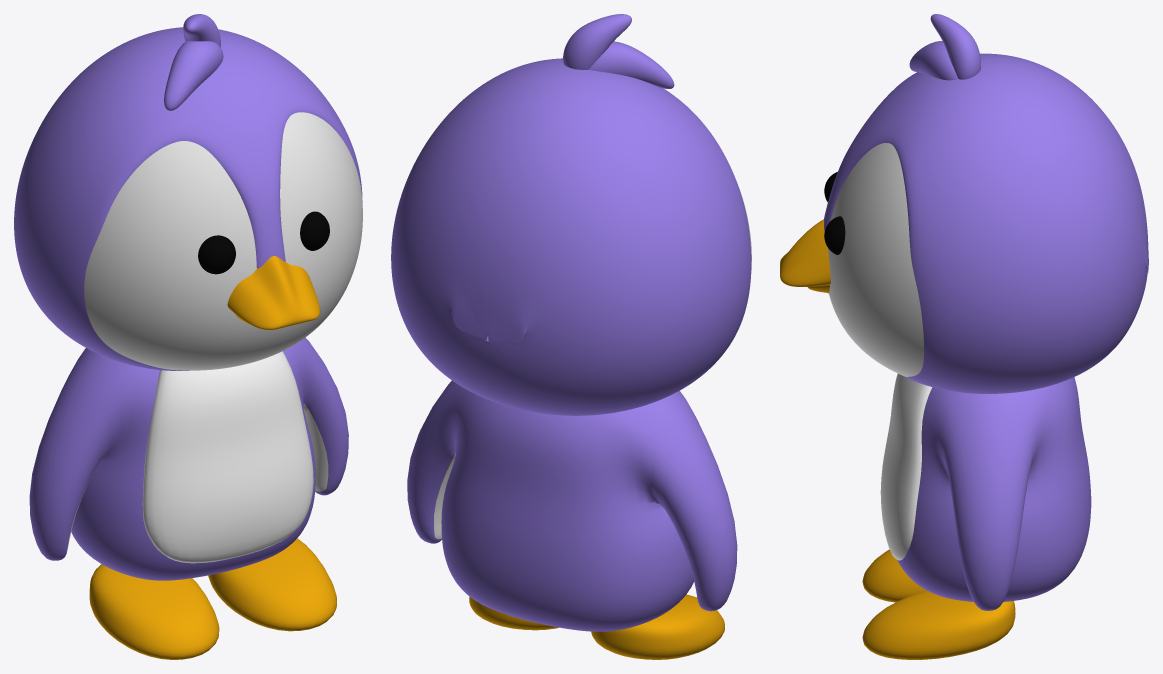
File: Penguin_3d.glb
3 views of the same model, side by side, from view 1: azimuth 30°, elevation 25°; view 2: azimuth 150°, elevation 25°; view 3: azimuth 270°, elevation 25° (orthographic). The views are drawn at different scales.
Visible parts, largest first — view 1: Sphere.018, Sphere.017, Cube.058, Cube.059, Cube.060, Cube.054, Cube.056, Sphere.019, Cube.057; view 2: Sphere.018, Cube.058, Cube.060, Cube.057, Cube.056; view 3: Sphere.018, Cube.058, Sphere.017, Cube.060, Cube.059, Cube.054, Cube.057, Cube.056, Sphere.019.
Part boxes in pixels (box(x1,y1,x2,y2)): Sphere.018: box(14, 27, 362, 370); Sphere.017: box(84, 112, 362, 370); Cube.058: box(29, 337, 348, 580); Cube.059: box(142, 351, 313, 563); Cube.060: box(89, 538, 336, 659); Cube.054: box(227, 256, 320, 329); Cube.056: box(164, 41, 223, 110); Sphere.019: box(198, 211, 329, 274); Cube.057: box(183, 14, 220, 47); Sphere.018: box(391, 58, 751, 415); Cube.058: box(407, 380, 737, 631); Cube.060: box(469, 594, 724, 659); Cube.057: box(563, 14, 631, 69); Cube.056: box(588, 41, 674, 88); Sphere.018: box(824, 53, 1148, 393); Cube.058: box(897, 377, 1091, 610); Sphere.017: box(827, 143, 924, 376); Cube.060: box(862, 549, 1015, 659); Cube.059: box(880, 373, 932, 560); Cube.054: box(780, 219, 830, 286); Cube.057: box(930, 14, 980, 79); Cube.056: box(909, 41, 958, 80); Sphere.019: box(824, 172, 845, 254).
Size of the model in its own units: 3.22 by 6 by 3.38.
